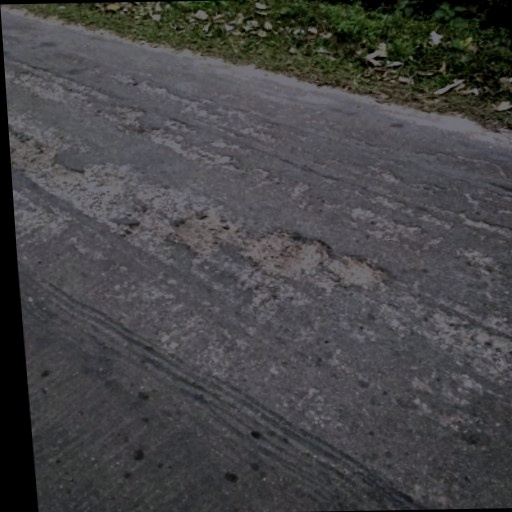pothole: (239, 225, 338, 278), (169, 208, 246, 256), (325, 252, 388, 284), (8, 120, 49, 167)
